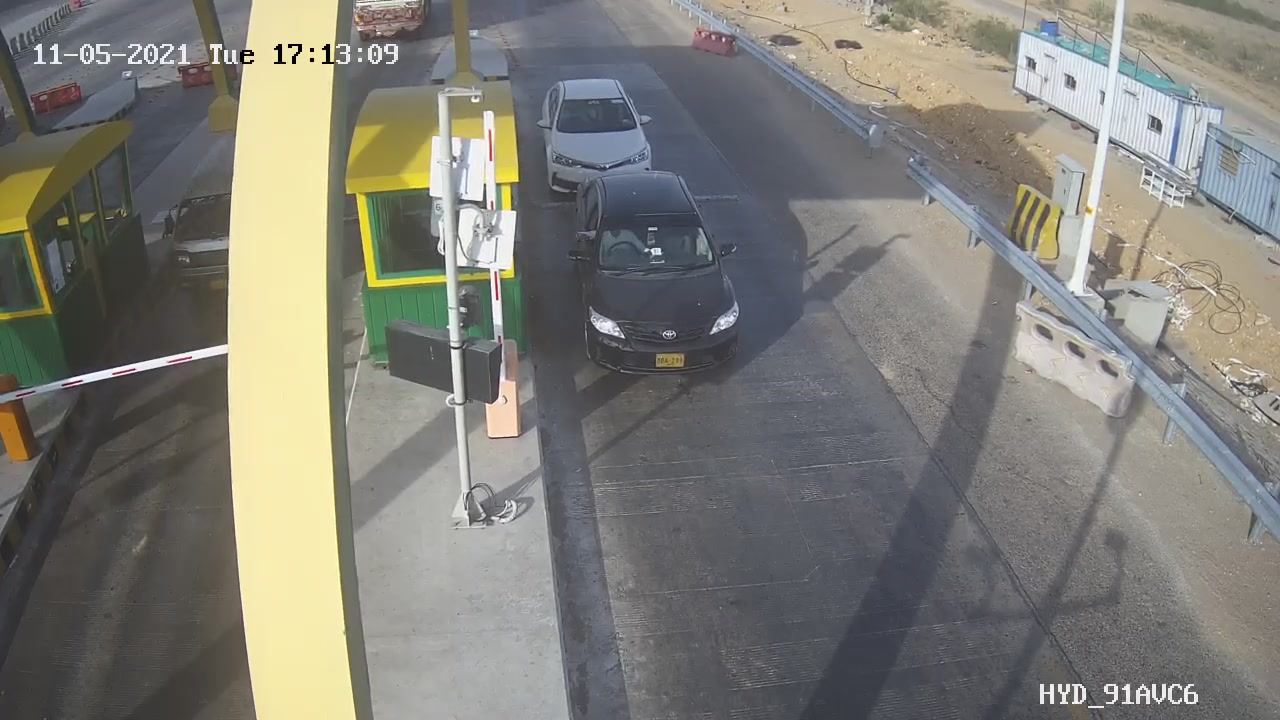F1: (555, 159, 764, 392), (521, 64, 674, 211)
